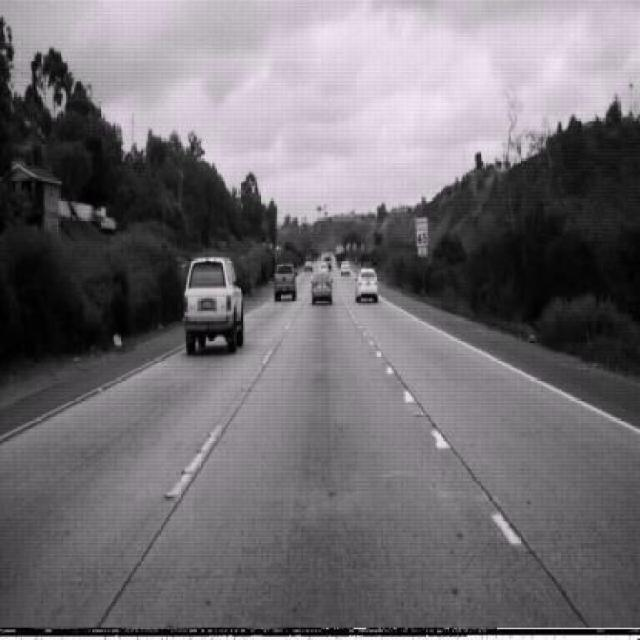speedLimit65: (414, 214, 428, 247)
